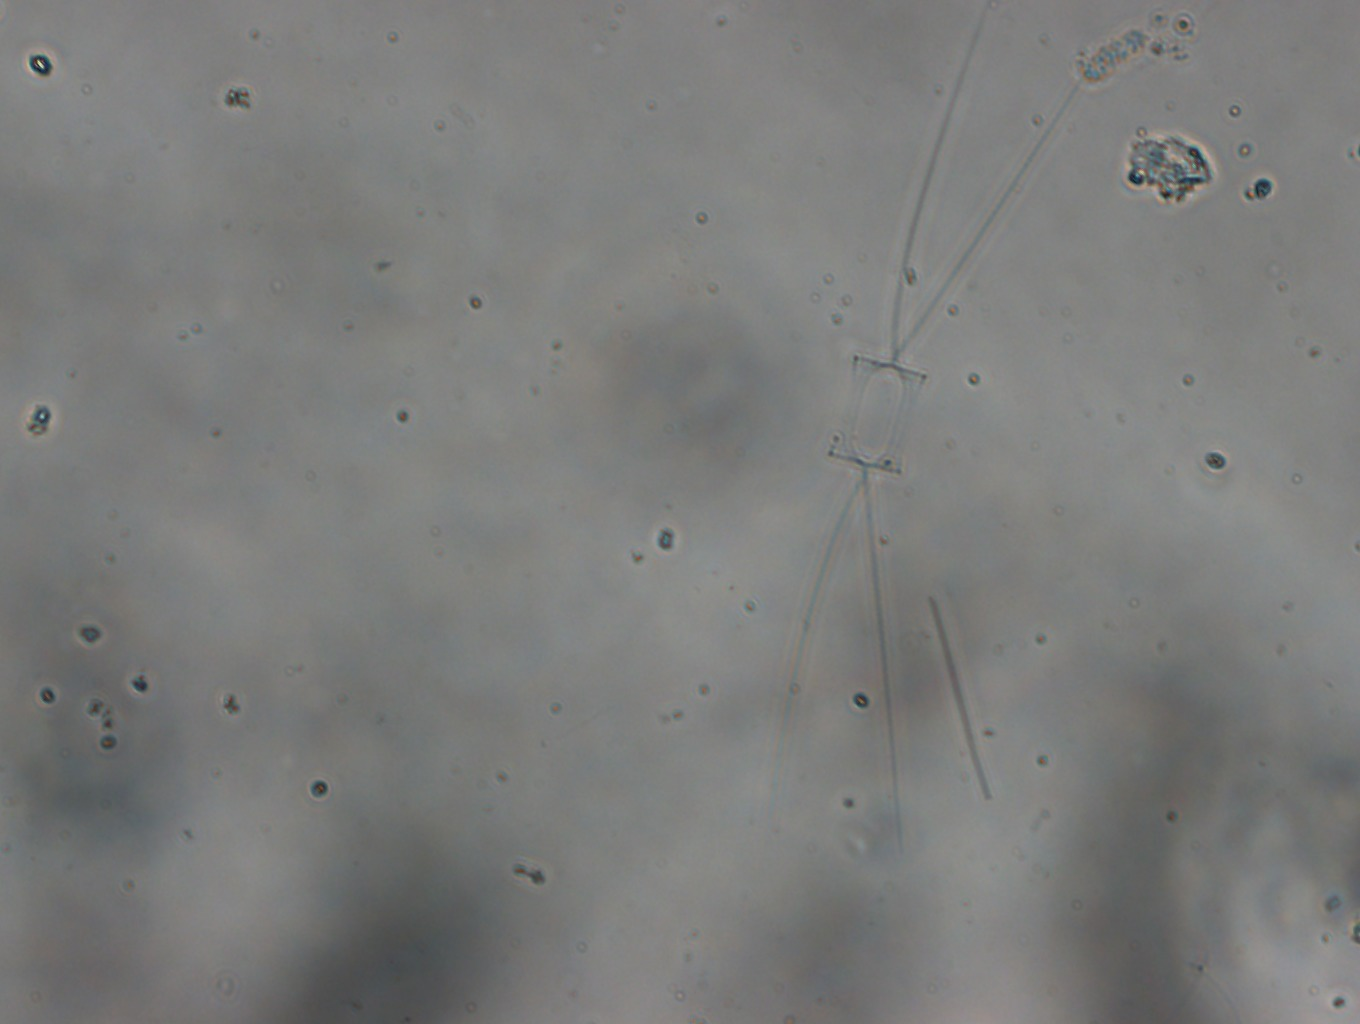chaetoceros: (765, 3, 1092, 874)
